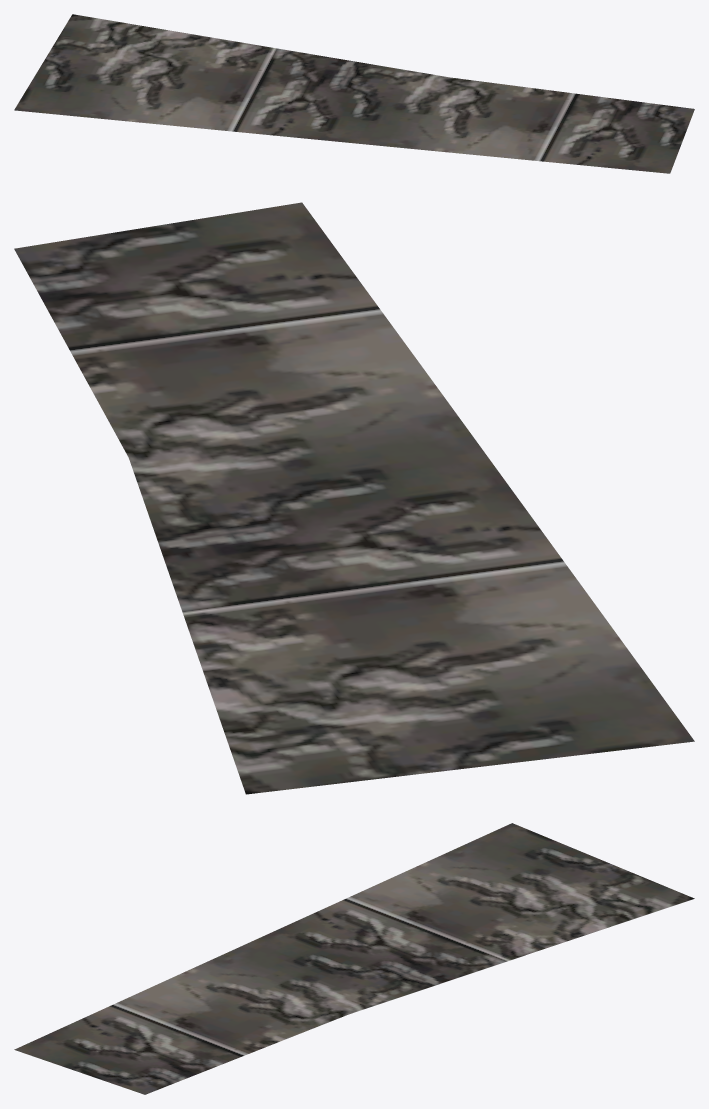
The model's file is CH09_SMAUG_PLAYSURFACE_LAIR57.fbx.
3 views of the same model, one above another, from view 1: azimuth 30°, elevation 25°; view 2: azimuth 150°, elevation 25°; view 3: azimuth 270°, elevation 25° (orthographic). The views are drawn at different scales.
Parts seen in each view (by area): view 1: CH09_SMAUG_PLAYSURFACE_LAIR57; view 2: CH09_SMAUG_PLAYSURFACE_LAIR57; view 3: CH09_SMAUG_PLAYSURFACE_LAIR57.
Part boxes in pixels (x1,y1,x2,y2): CH09_SMAUG_PLAYSURFACE_LAIR57: [14, 14, 694, 173]; CH09_SMAUG_PLAYSURFACE_LAIR57: [14, 202, 694, 794]; CH09_SMAUG_PLAYSURFACE_LAIR57: [14, 823, 694, 1094].
Bounding box in the file's own units: 61067 × 0.00653 × 64640.
Materials: 1 (1 with a texture image).
